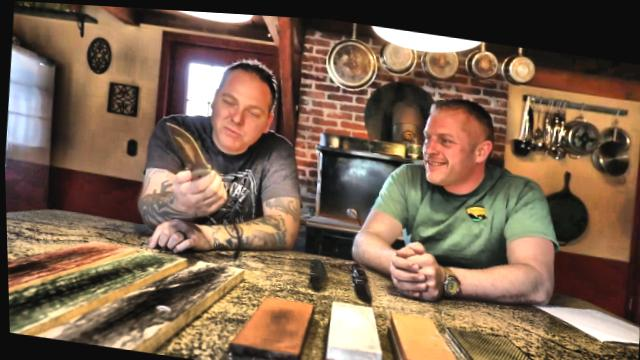knife: (154, 112, 233, 197)
